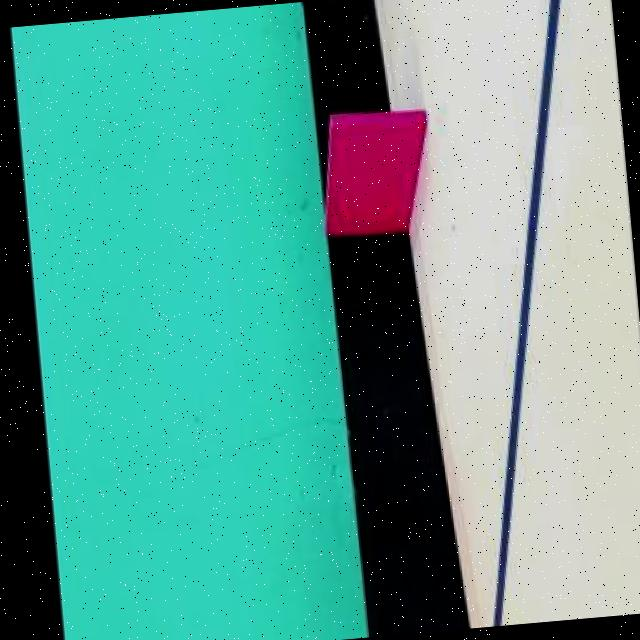xparking: (335, 110, 434, 228)
